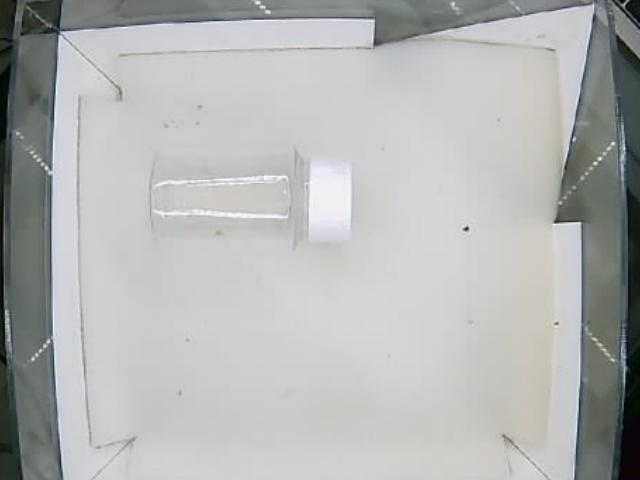Bottle: (147, 147, 355, 253)
